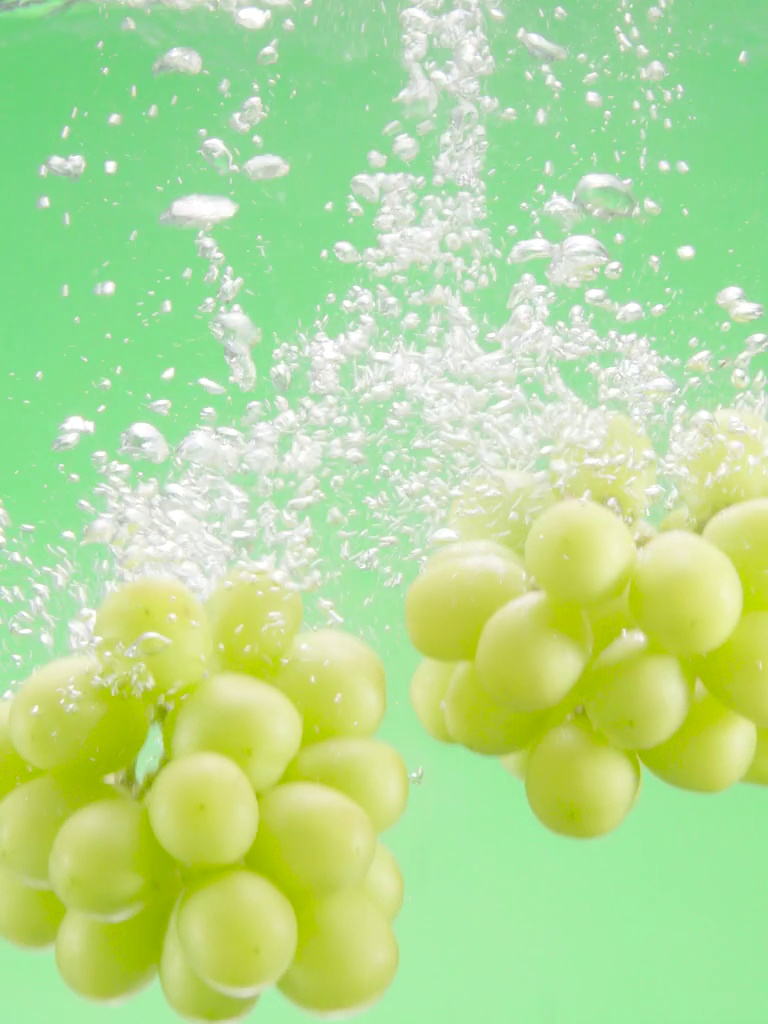grape: (3, 568, 400, 1024), (411, 407, 768, 841)
